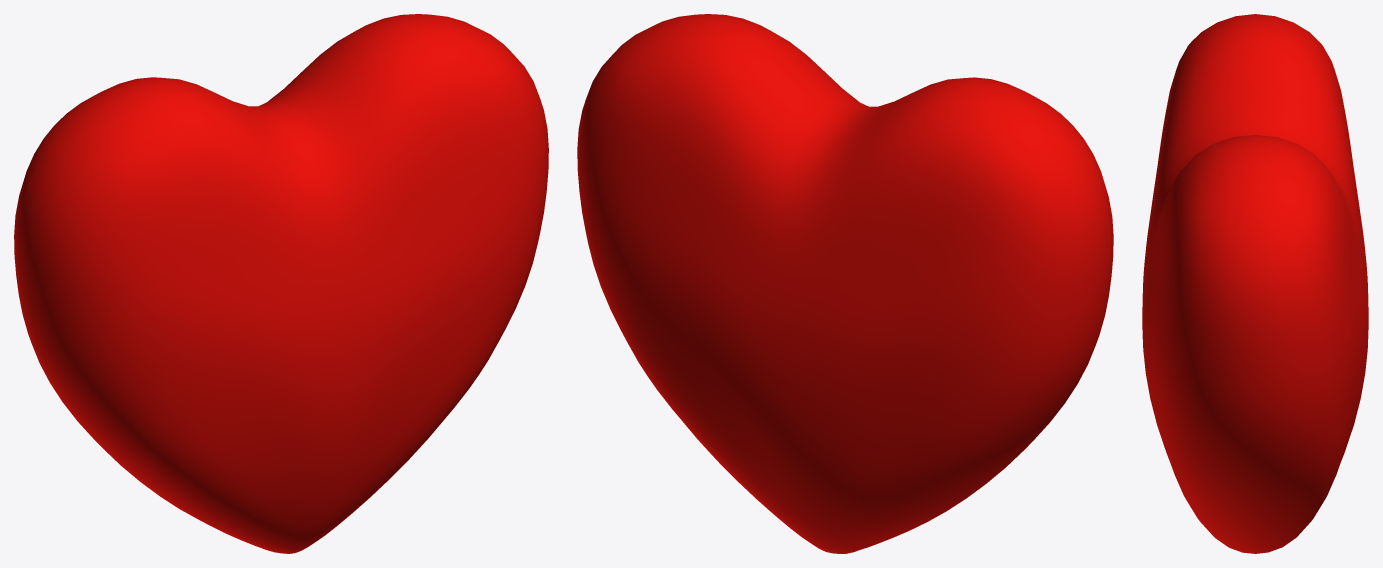
Rendered from kalp.fbx.
The picture shows the model from 3 angles, left to right: view 1: azimuth 30°, elevation 25°; view 2: azimuth 150°, elevation 25°; view 3: azimuth 270°, elevation 25°; orthographic projection. The views are drawn at different scales.
Visible parts, largest first — view 1: kalp2.001; view 2: kalp2.001; view 3: kalp2.001.
Part boxes in pixels (x1,y1,x2,y2): kalp2.001: (14, 14, 548, 553); kalp2.001: (577, 14, 1113, 553); kalp2.001: (1142, 14, 1368, 553).
Size of the model in its own units: 6.17 by 5.71 by 2.52.
